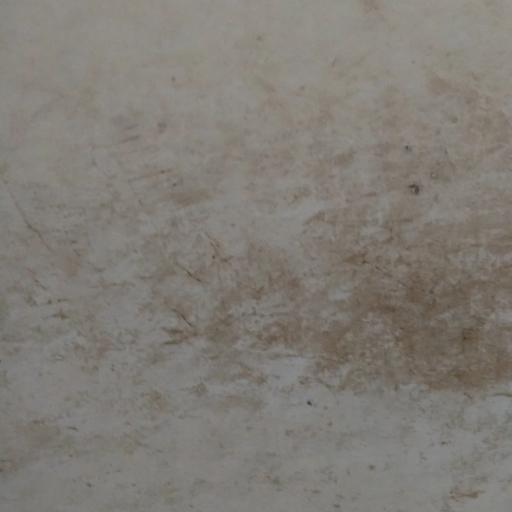stain: (13, 49, 512, 407)
